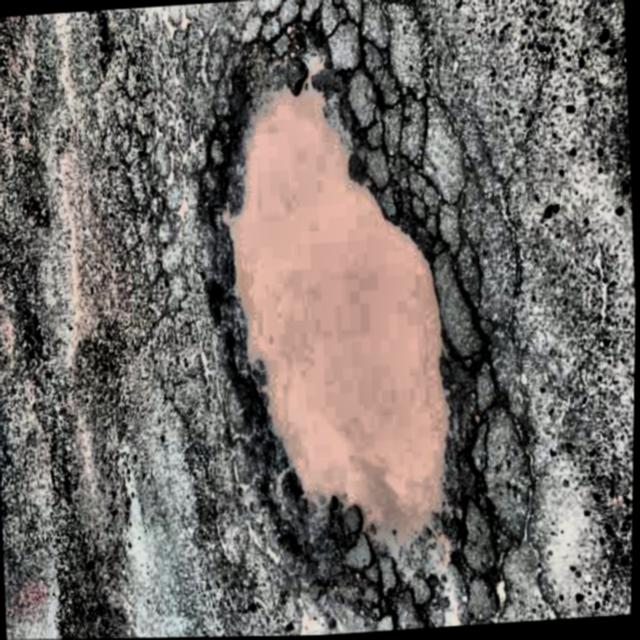Cracks: (227, 88, 459, 550)
